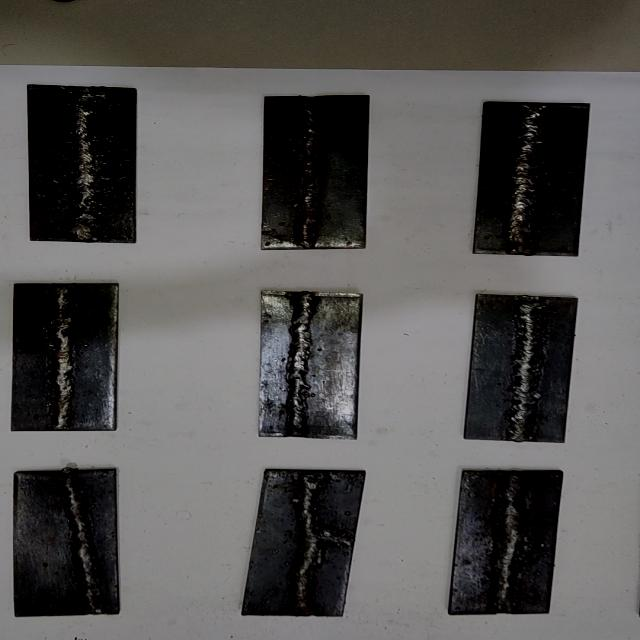Bad Weld: (494, 472, 532, 612), (67, 88, 101, 240), (47, 286, 75, 428), (295, 471, 320, 613), (302, 97, 318, 245)
Defect: (296, 98, 325, 221), (487, 528, 540, 557), (286, 527, 358, 548), (63, 91, 112, 116), (65, 197, 108, 225), (40, 297, 78, 321), (293, 473, 338, 486)
Good Weld: (506, 106, 550, 253), (59, 472, 103, 611), (506, 299, 545, 440), (287, 294, 312, 434)
